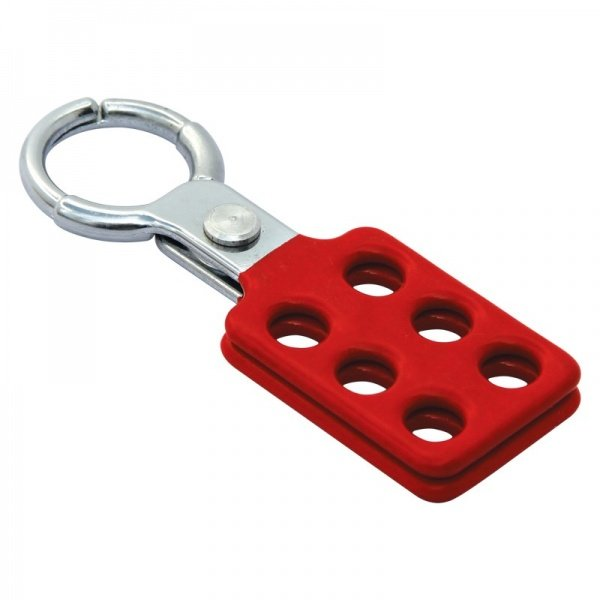hasp: (17, 95, 583, 509)
